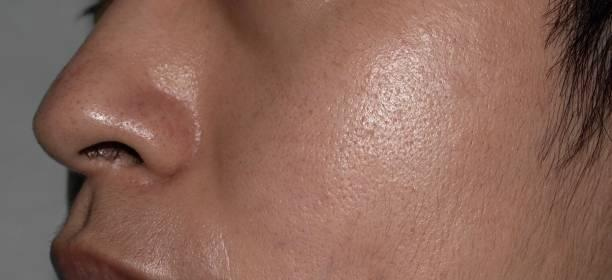Dry-Skin: (239, 54, 502, 199), (159, 139, 296, 280), (139, 9, 209, 154), (437, 54, 438, 194)
